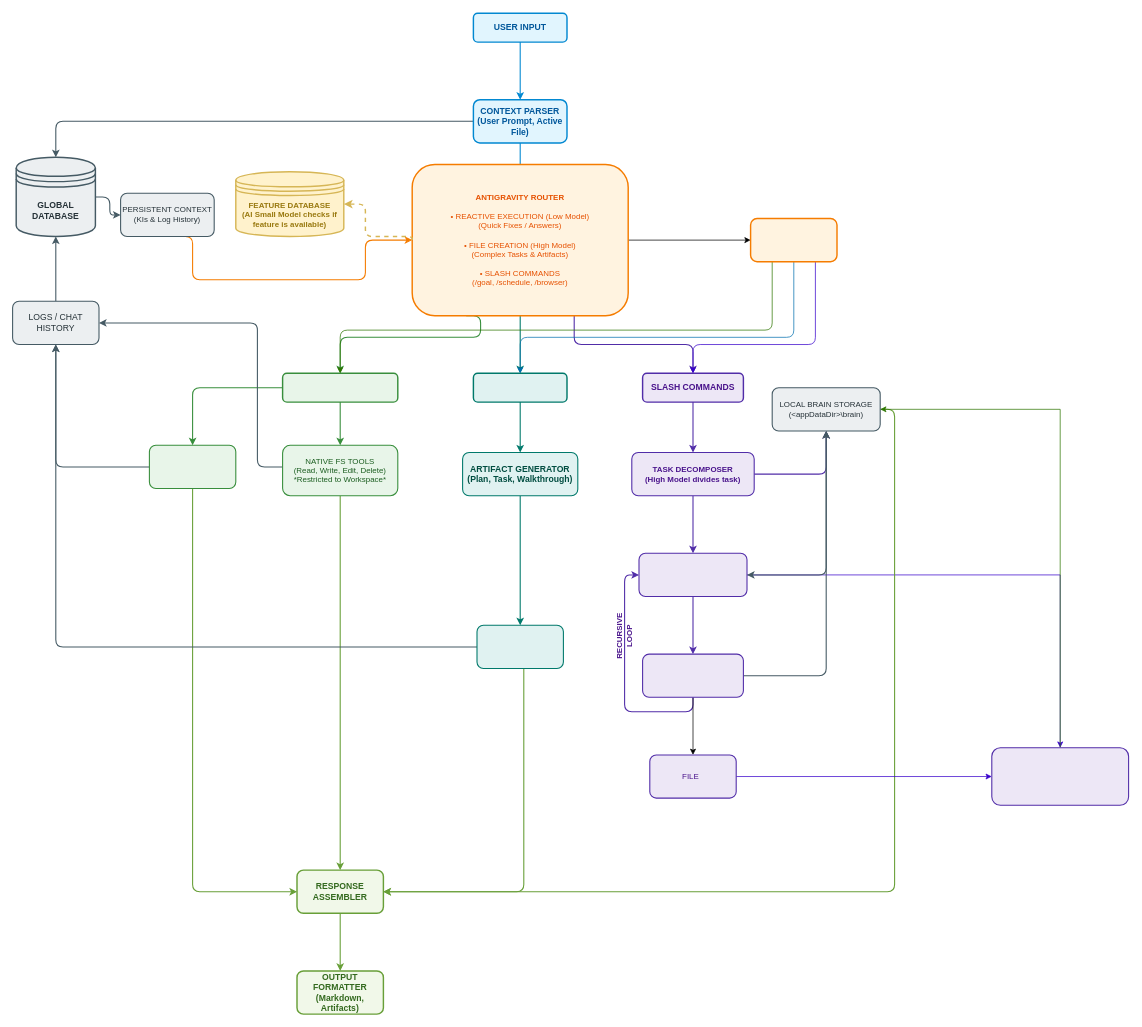
Some shapes in this 1142 by 1027 pixel diagram are drawn without their labels. Here are the shapes that lost their labels. From the top down, the centre of each, then its label:
[793,239]: MULTIPLE MODEL SECTION
[340,387]: REACTIVE EXECUTION
[519,387]: PLANNING MODE
[192,466]: SIMPLE REPLY
[692,574]: EXECUTE SUB-TASK (Loop over JSON tools)
[520,646]: JSON TOOL PARSER & FS EXECUTION
[693,675]: TOOL REFLECTION (Send FS Result to Ollama)
[1060,776]: CREATE , EDIT , READ , WRITE , DELETE {LOOP avalabel }
